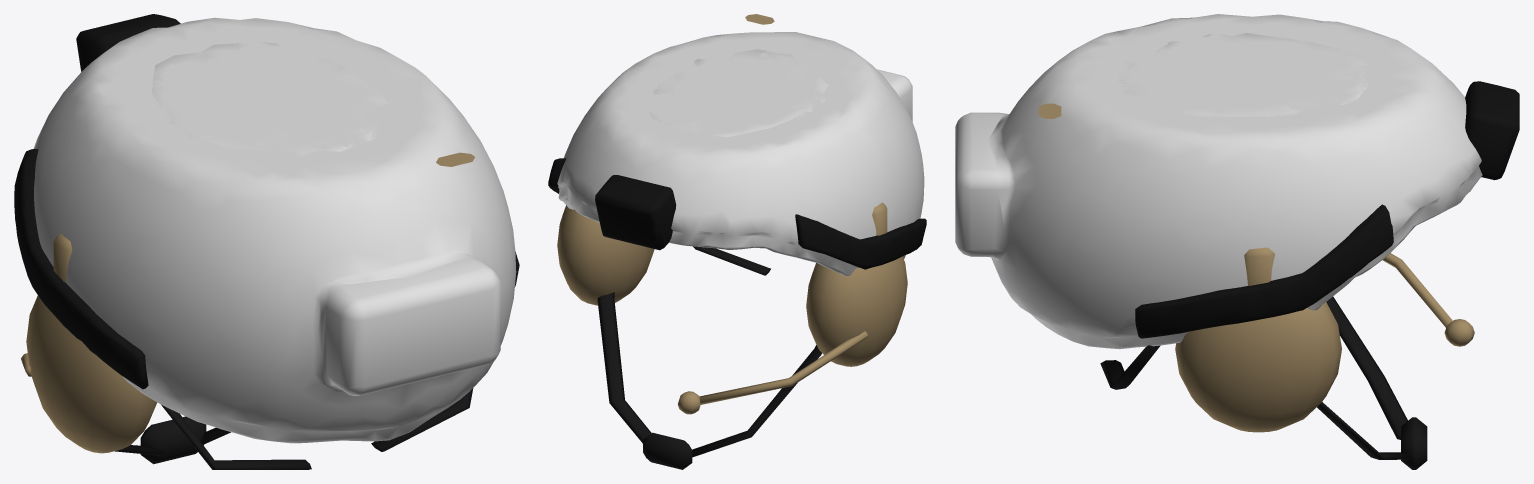
Rendered from nato_helmet.glb.
The picture shows the model from 3 angles, left to right: view 1: azimuth 30°, elevation 25°; view 2: azimuth 150°, elevation 25°; view 3: azimuth 270°, elevation 25°; orthographic projection. The views are drawn at different scales.
Visible parts, largest first — view 1: nato_helmet_LOD0; view 2: nato_helmet_LOD0; view 3: nato_helmet_LOD0.
Part boxes in pixels (<box>): nato_helmet_LOD0: <box>14,14,519,469</box>; nato_helmet_LOD0: <box>548,14,926,469</box>; nato_helmet_LOD0: <box>955,14,1519,469</box>.
Size of what is drawn, in the model's own units: 0.2538 by 0.2405 by 0.3203.
